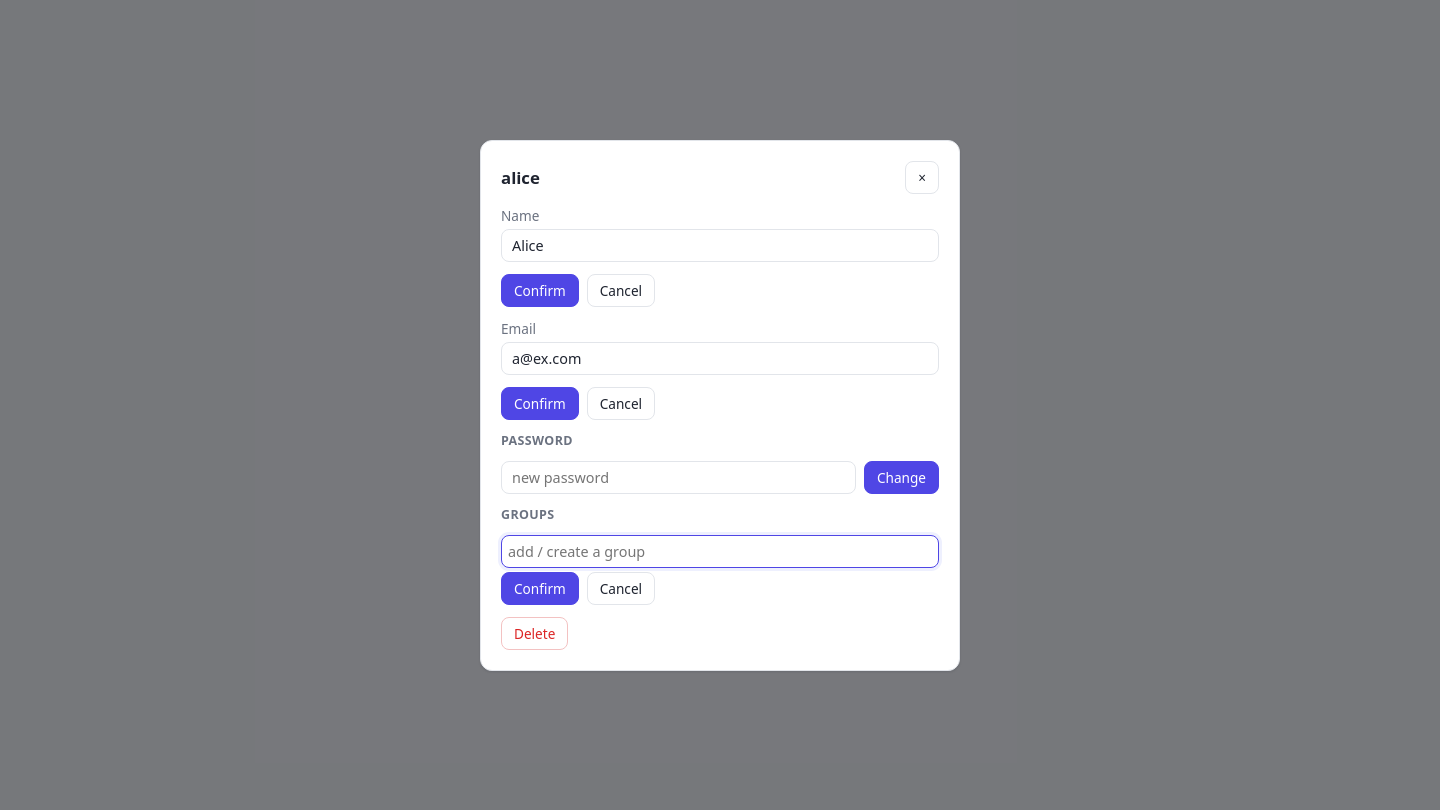
it: empty password asks for a password
The width and height of the screenshot is (1440, 810).
Click the button with test id "password-button-alice". click: {"x": 902, "y": 477}
box: [864, 460, 939, 494]
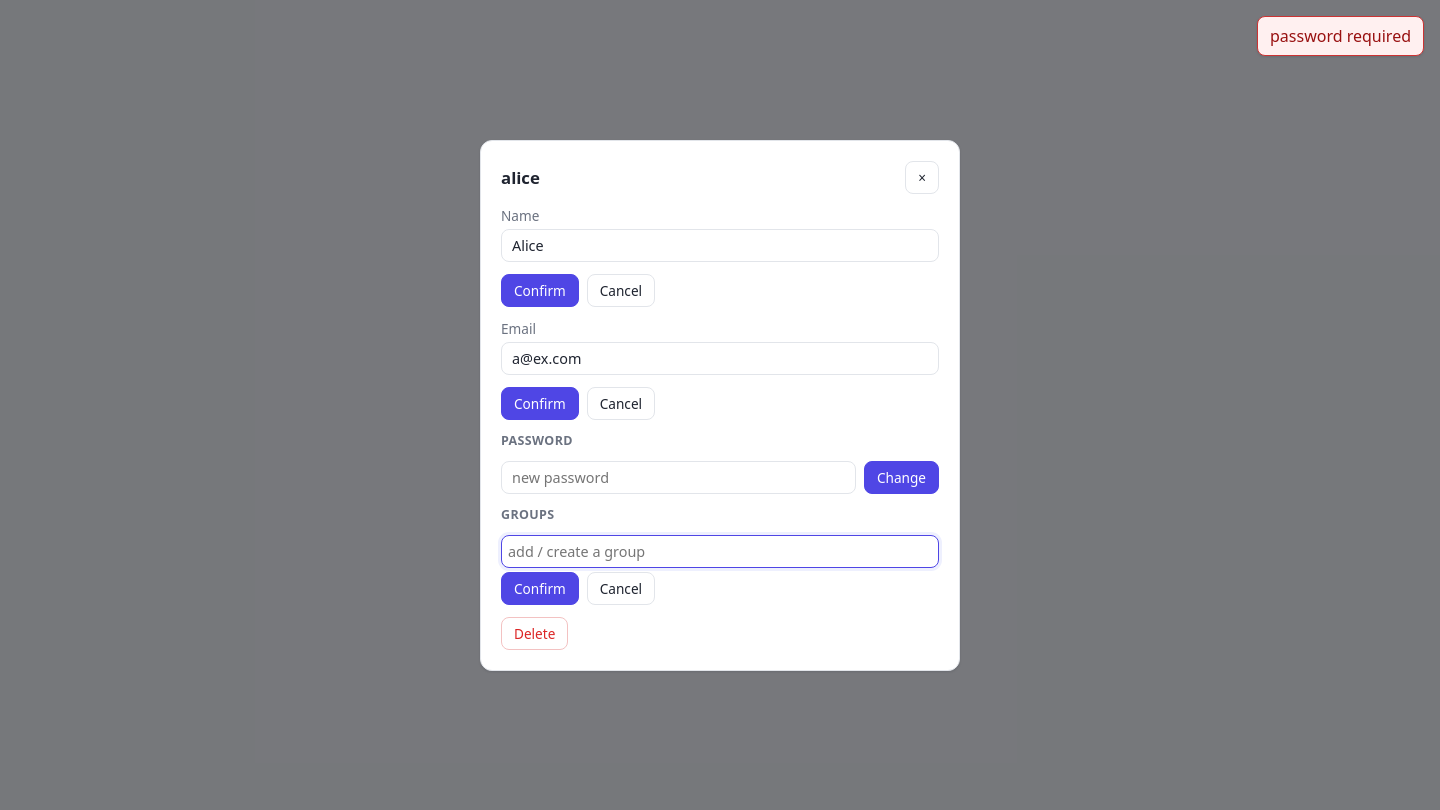
Check: the text with test id "toast-error" reads "password required", box [1270, 25, 1411, 47]
